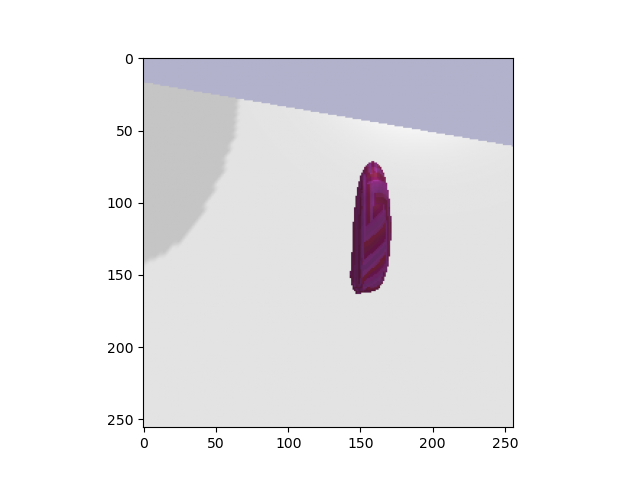v249b387_105: (339, 159, 407, 305)
